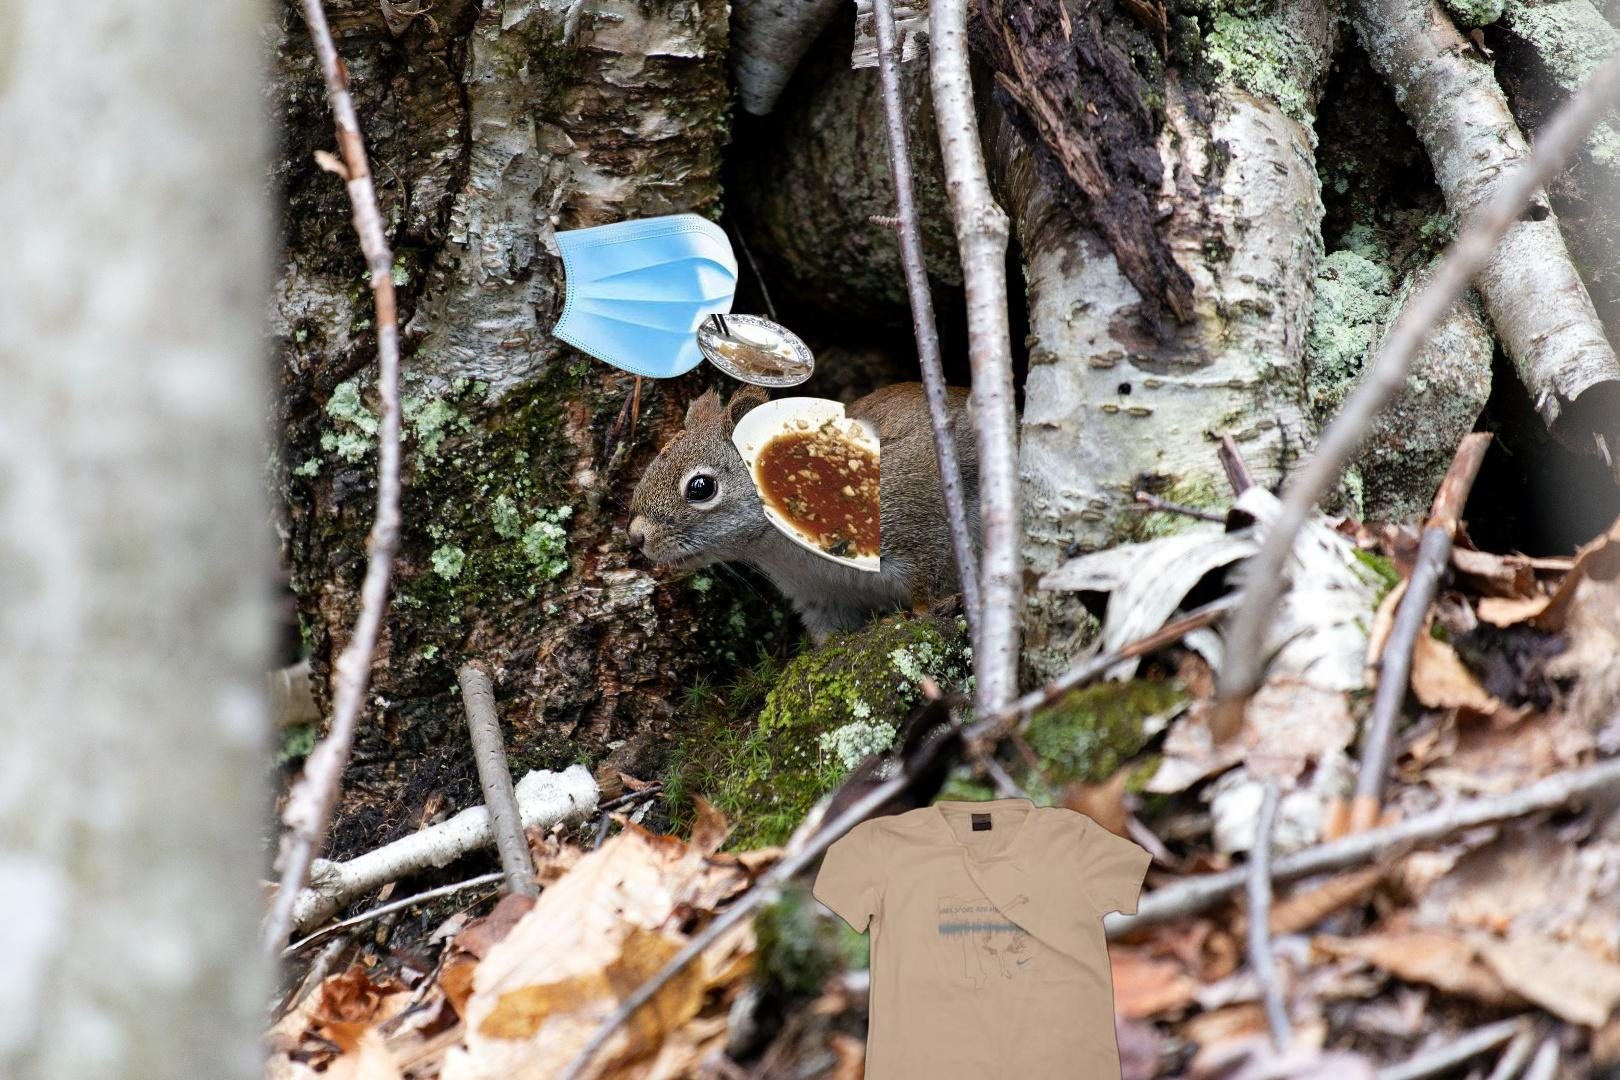biological: (695, 315, 880, 576)
clothes: (810, 796, 1158, 1080)
trash: (548, 187, 738, 380)
